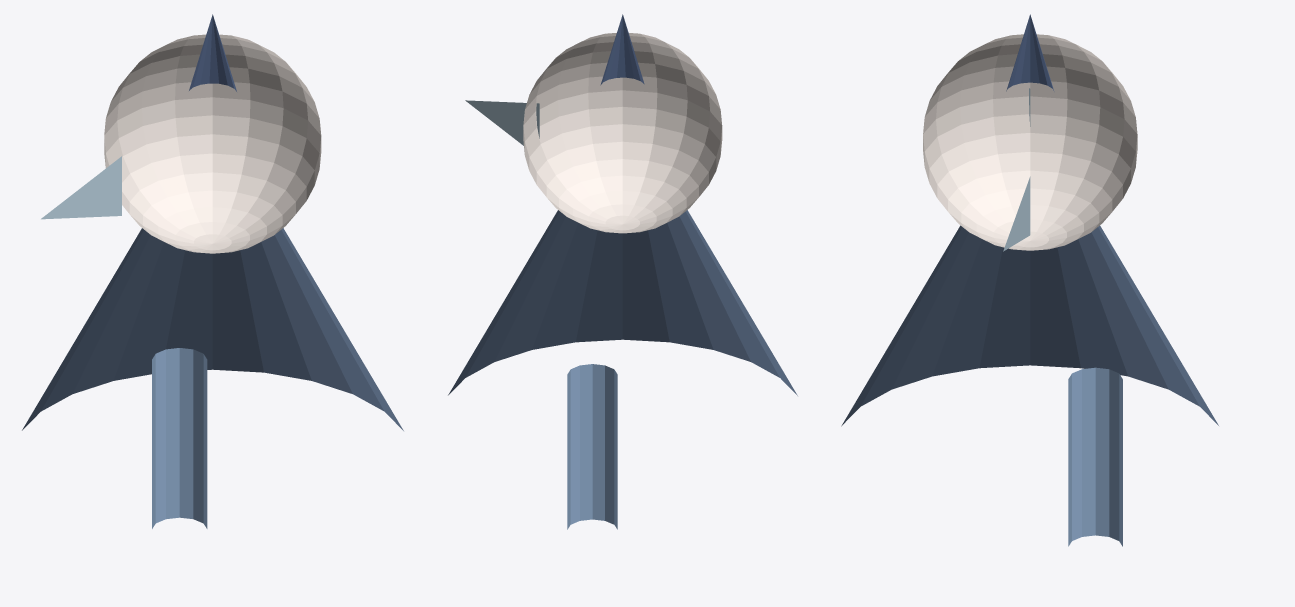
Rendered from xiaoshi_demo.glb.
The picture shows the model from 3 angles, left to right: view 1: azimuth 30°, elevation 25°; view 2: azimuth 150°, elevation 25°; view 3: azimuth 270°, elevation 25°; orthographic projection. The views are drawn at different scales.
Parts seen in each view (by area): view 1: Head, Dress, Tail, Fin_R, Ahoge; view 2: Head, Dress, Tail, Fin_L, Ahoge; view 3: Head, Dress, Tail, Ahoge, Fin_L.
Part boxes in pixels (x1=…): Head: x1=104, y1=34, x2=321, y2=253; Dress: x1=22, y1=228, x2=403, y2=430; Tail: x1=152, y1=348, x2=207, y2=528; Fin_R: x1=41, y1=156, x2=121, y2=219; Ahoge: x1=189, y1=14, x2=236, y2=91; Head: x1=523, y1=33, x2=722, y2=233; Dress: x1=448, y1=210, x2=797, y2=395; Tail: x1=567, y1=364, x2=617, y2=529; Fin_L: x1=465, y1=100, x2=539, y2=145; Ahoge: x1=600, y1=14, x2=644, y2=85; Head: x1=923, y1=34, x2=1137, y2=250; Dress: x1=841, y1=225, x2=1218, y2=426; Tail: x1=1068, y1=367, x2=1122, y2=546; Ahoge: x1=1006, y1=14, x2=1054, y2=91; Fin_L: x1=1003, y1=176, x2=1030, y2=251.
Bounding box in the file's own units: 0.78 × 1.08 × 0.82.
